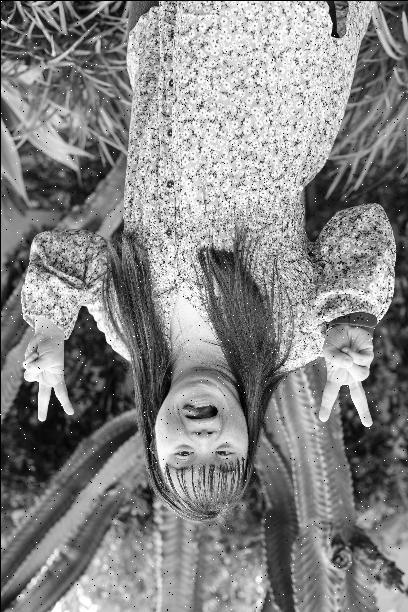Scissors: (316, 324, 376, 429), (19, 330, 76, 424)
